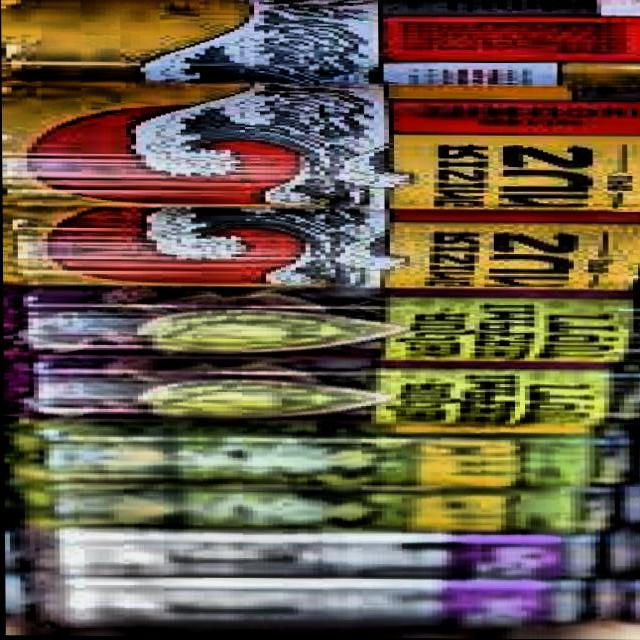litter: (1, 84, 640, 215), (0, 0, 640, 92), (1, 204, 640, 292), (2, 282, 640, 366), (2, 421, 640, 498), (2, 357, 640, 428), (36, 522, 640, 584), (50, 574, 640, 630), (3, 486, 640, 536)
